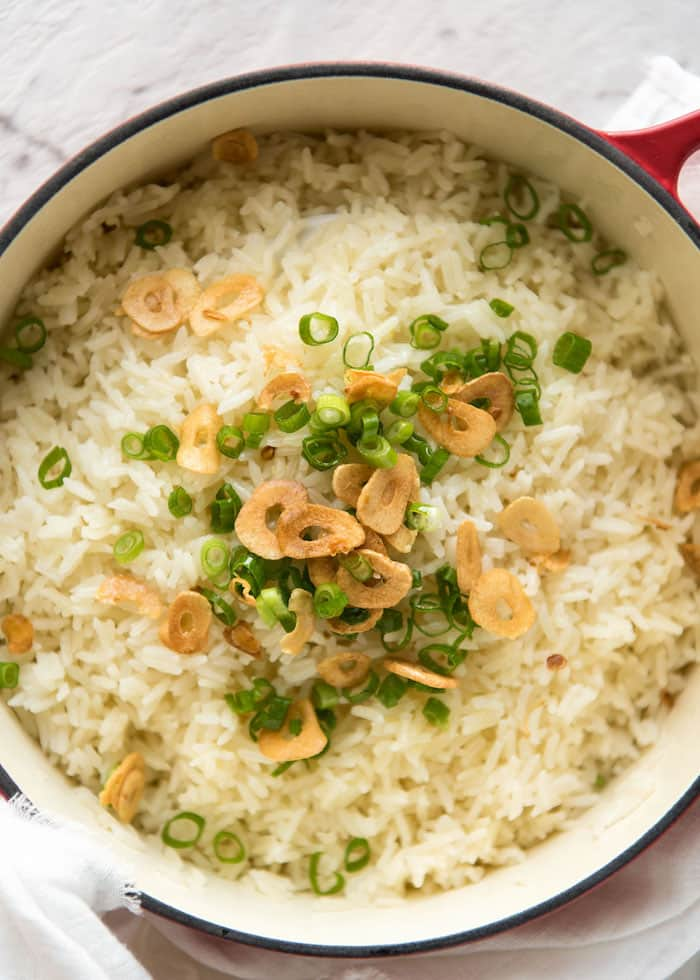plain rice: (146, 723, 567, 863), (222, 205, 527, 348)
